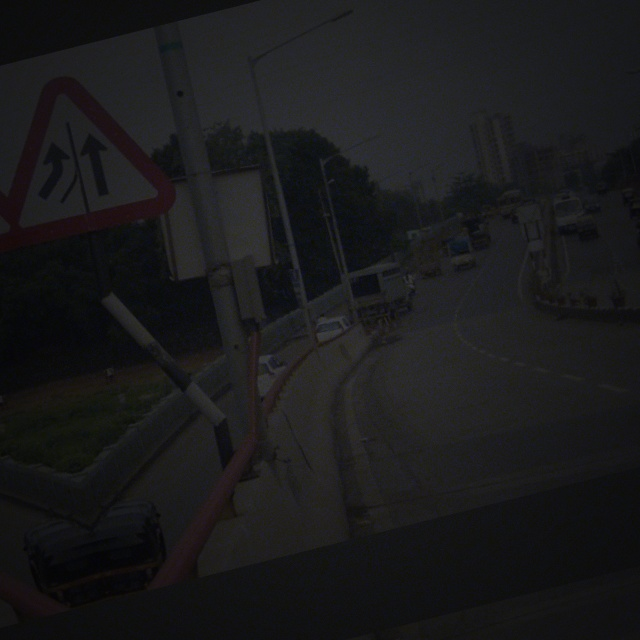Merge_Traffic_Ahead: (1, 63, 179, 248)
